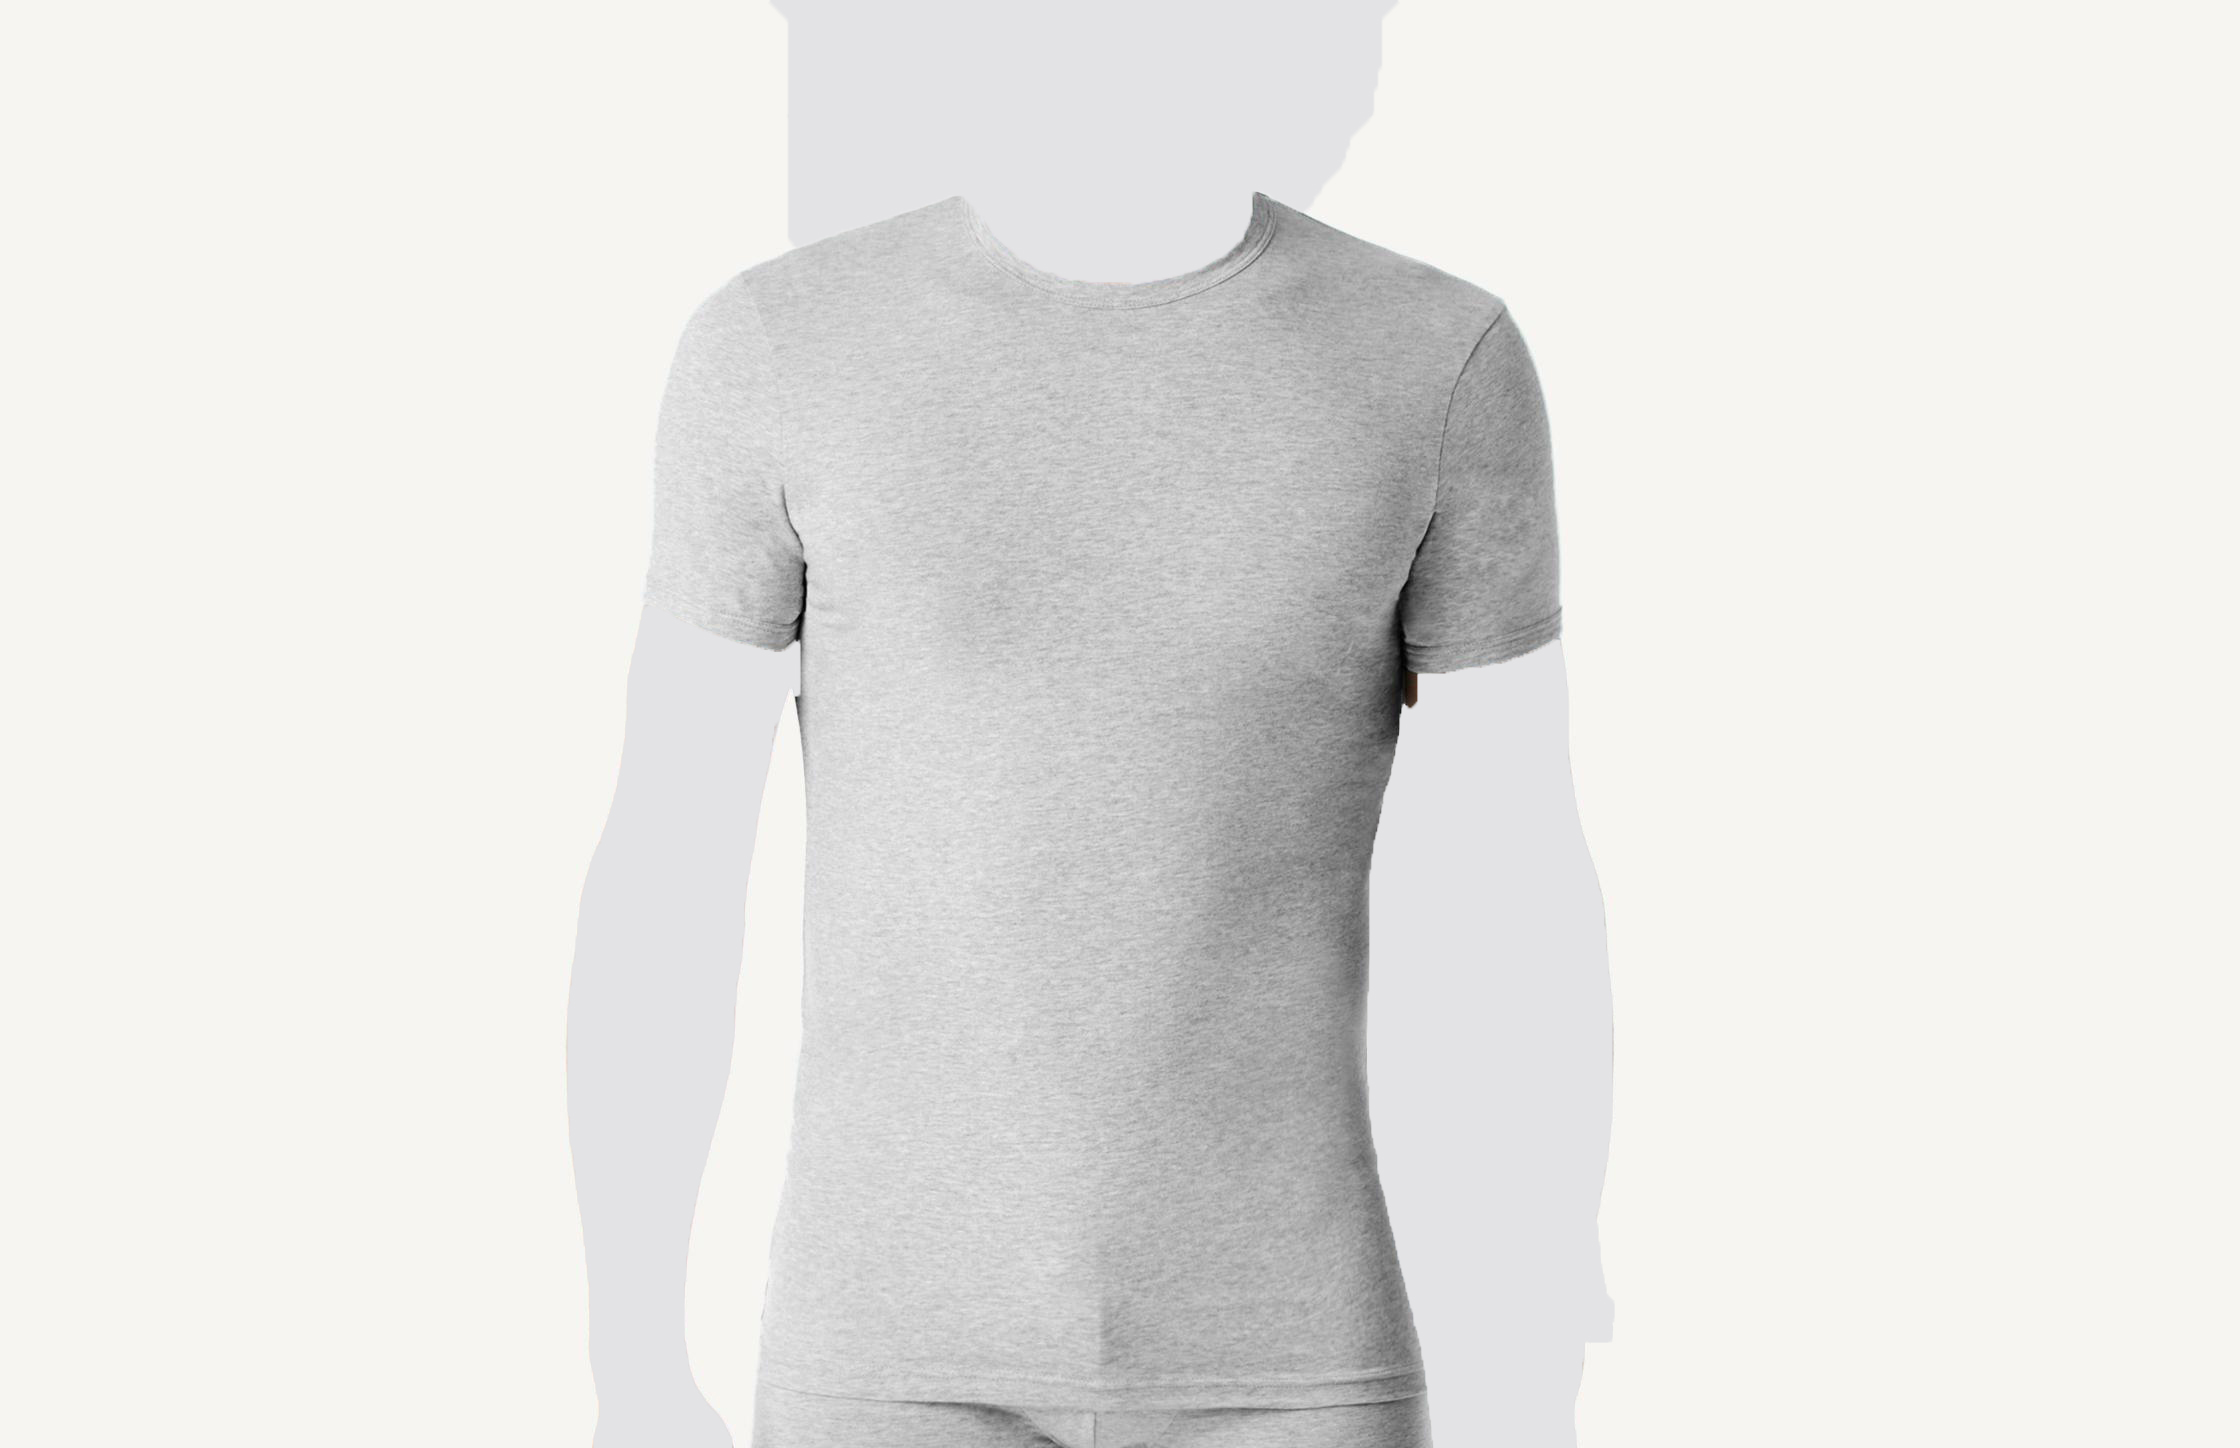teeshirt: (627, 188, 1597, 1448)
